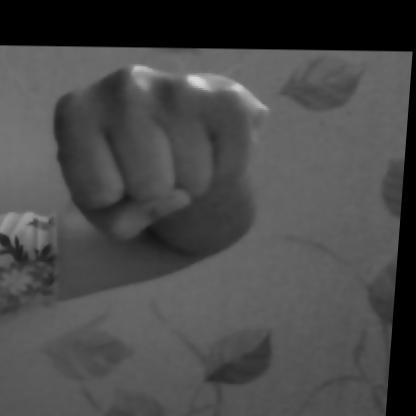fist: (0, 49, 313, 316)
